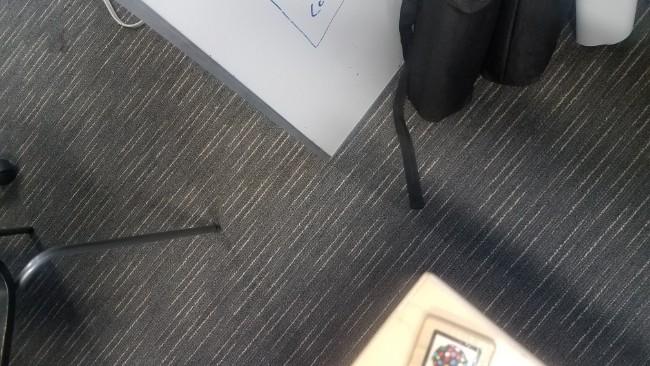cookie: (416, 327, 485, 366)
